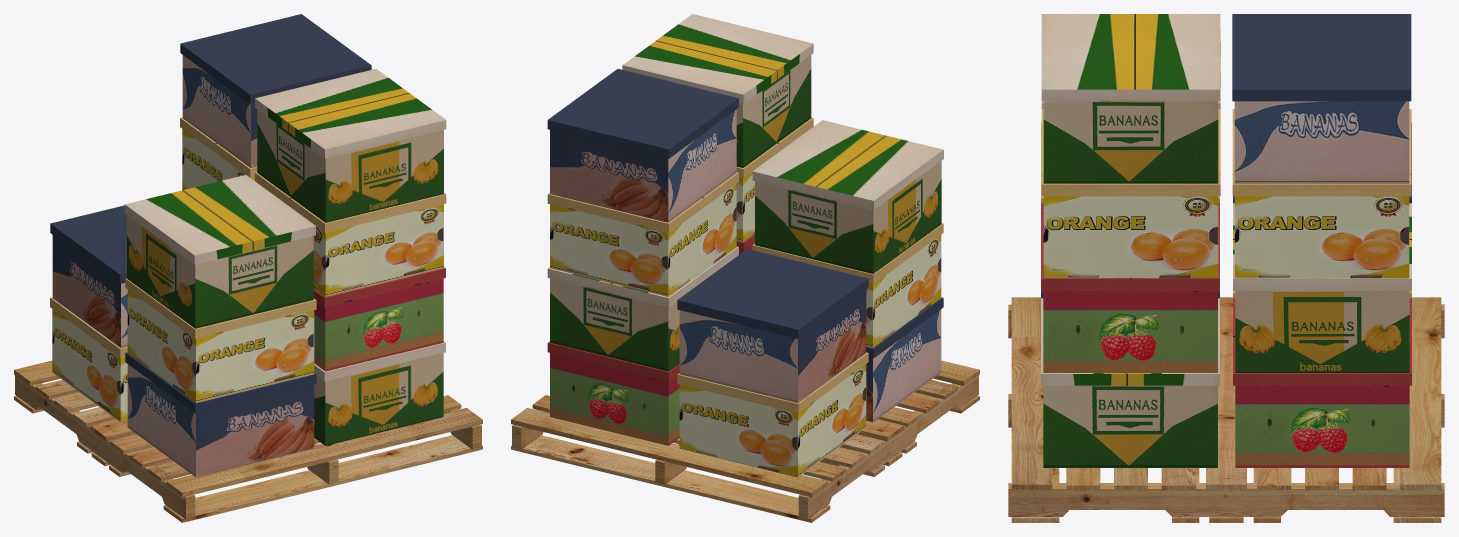
The model's file is Cardboard_boxGroup02b.FBX.
3 renders of one model, left to right at view 1: azimuth 30°, elevation 25°; view 2: azimuth 150°, elevation 25°; view 3: azimuth 270°, elevation 25°, orthographic. The views are drawn at different scales.
Parts seen in each view (by area): view 1: Cardboard_boxGroup02b2, Cardboard_boxGroup02b1, Cardboard_boxG02b; view 2: Cardboard_boxGroup02b2, Cardboard_boxGroup02b1, Cardboard_boxG02b; view 3: Cardboard_boxGroup02b2, Cardboard_boxGroup02b1, Cardboard_boxG02b.
Boxes of the visible parts, x1,y1,x2,y2 form: Cardboard_boxGroup02b2: [50, 69, 446, 445]; Cardboard_boxGroup02b1: [50, 14, 445, 477]; Cardboard_boxG02b: [14, 360, 482, 522]; Cardboard_boxGroup02b2: [547, 14, 943, 477]; Cardboard_boxGroup02b1: [547, 69, 943, 445]; Cardboard_boxG02b: [511, 360, 979, 522]; Cardboard_boxGroup02b2: [1041, 14, 1411, 467]; Cardboard_boxGroup02b1: [1041, 14, 1411, 467]; Cardboard_boxG02b: [1008, 297, 1444, 522].
Bounding box in the file's own units: 2.16 × 2.24 × 2.12.
